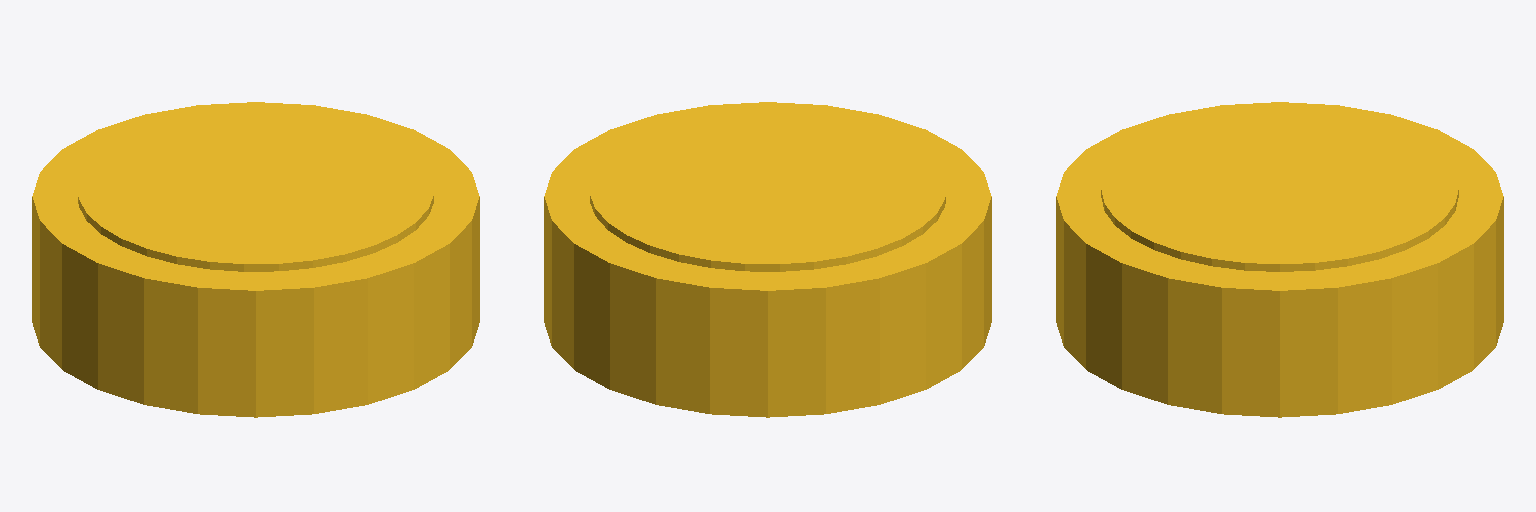
The model's file is gem_type_3.obj.
3 views of the same model, side by side, from view 1: azimuth 30°, elevation 25°; view 2: azimuth 150°, elevation 25°; view 3: azimuth 270°, elevation 25° (orthographic).
Visible parts, largest first — view 1: gem_type_3; view 2: gem_type_3; view 3: gem_type_3.
Part boxes in pixels (x1,y1,x2,y2): gem_type_3: (32, 102, 479, 417); gem_type_3: (544, 102, 991, 417); gem_type_3: (1056, 102, 1503, 417).
Bounding box in the file's own units: 0.8 × 0.265 × 0.8.